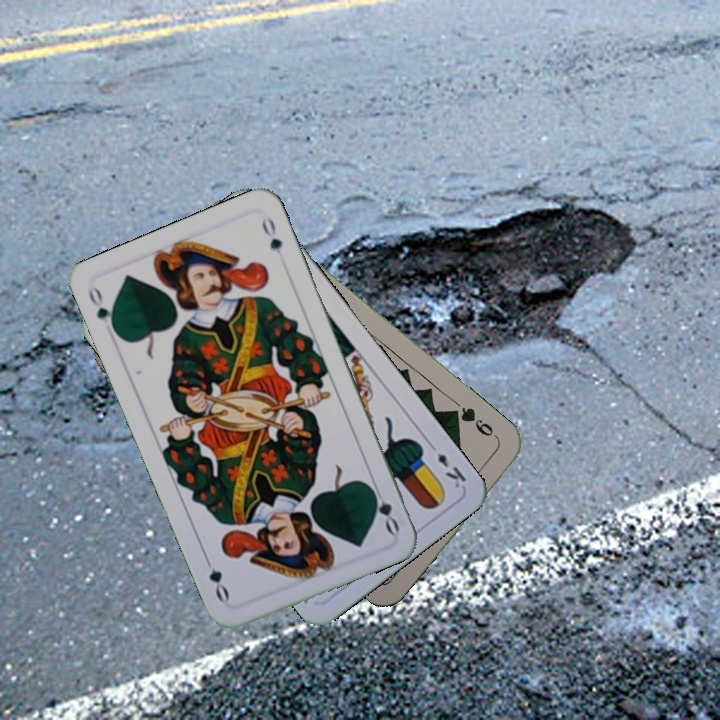EK: (424, 438, 470, 491)
G9: (450, 402, 503, 444)
GO: (364, 479, 402, 537), (84, 283, 121, 338)
